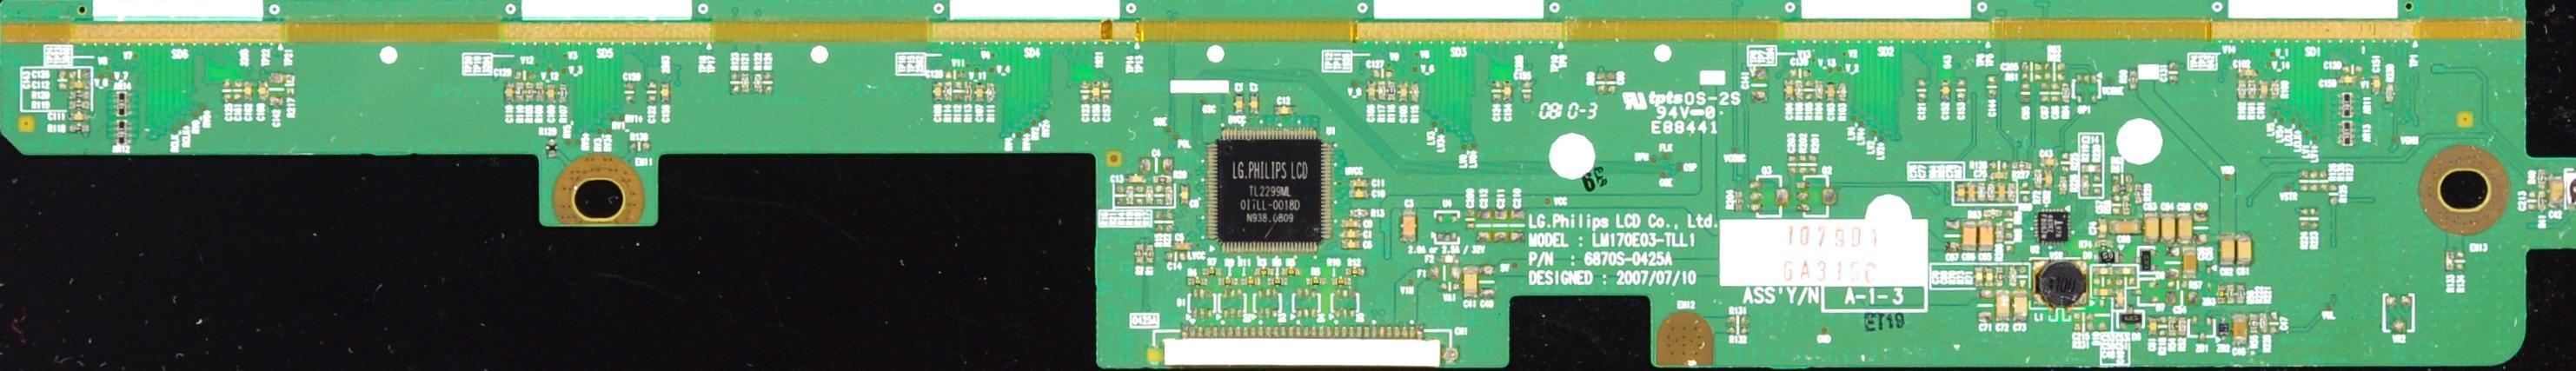Capacitor: (2013, 288, 2028, 321), (2236, 235, 2253, 267), (2549, 175, 2564, 208), (2144, 213, 2160, 243), (2182, 248, 2198, 278), (1464, 266, 1478, 299), (2233, 313, 2247, 347), (2109, 221, 2141, 235), (2219, 235, 2234, 267), (2161, 213, 2176, 243), (2178, 213, 2193, 243), (1963, 222, 1977, 252), (1979, 222, 1994, 252), (1403, 209, 1417, 242), (1996, 289, 2009, 322), (2033, 62, 2055, 72), (2270, 314, 2280, 335), (1957, 80, 1966, 101), (1350, 189, 1370, 198), (1974, 268, 1982, 287), (2169, 63, 2178, 83), (2032, 72, 2055, 81), (2022, 63, 2030, 81), (1988, 76, 1996, 98), (1784, 79, 1793, 100), (258, 81, 267, 102), (1941, 81, 1949, 102), (1092, 82, 1100, 103), (626, 83, 634, 103), (1236, 94, 1244, 116), (1809, 154, 1817, 176), (1181, 184, 1189, 205), (2098, 219, 2107, 239), (1400, 83, 1408, 102), (506, 83, 514, 103), (2022, 83, 2029, 103), (975, 84, 984, 103), (1251, 94, 1258, 114), (1276, 107, 1296, 116), (69, 111, 90, 120), (2040, 157, 2057, 167), (2045, 169, 2054, 189), (1957, 184, 1965, 203), (2528, 191, 2536, 210), (1341, 219, 1361, 227), (1341, 240, 1361, 248), (2094, 268, 2113, 275), (1986, 268, 1995, 288), (514, 71, 534, 79), (70, 80, 90, 89), (2260, 81, 2267, 98), (1367, 80, 1376, 99), (933, 83, 942, 101), (1827, 83, 1835, 100), (2052, 84, 2060, 102), (662, 83, 670, 103), (548, 85, 554, 103), (1127, 176, 1145, 183), (1174, 243, 1192, 251), (2116, 267, 2134, 275), (2057, 63, 2065, 81), (2239, 69, 2257, 77), (1799, 154, 1806, 176), (1349, 180, 1370, 188), (1992, 171, 2008, 179), (1918, 81, 1926, 101), (649, 83, 655, 103), (1789, 155, 1796, 175), (1968, 182, 1975, 202), (1997, 182, 2005, 202), (1341, 229, 1361, 237), (2115, 289, 2123, 308), (2341, 66, 2360, 73), (244, 82, 251, 101), (2042, 84, 2049, 102), (2149, 318, 2155, 336), (2338, 77, 2356, 84), (2373, 76, 2379, 96), (1504, 80, 1510, 101), (2095, 288, 2113, 295)
Connector: (1153, 327, 1456, 367)
IC: (1208, 126, 1332, 254), (2035, 209, 2071, 244)
Resistor: (628, 142, 650, 152), (1595, 72, 1606, 94), (2271, 81, 2280, 100), (1136, 187, 1145, 207), (1734, 191, 1743, 210), (2260, 313, 2268, 334), (547, 137, 556, 156), (1145, 246, 1154, 265), (1116, 184, 1124, 205), (2309, 209, 2318, 230), (1136, 245, 1144, 266), (2009, 265, 2017, 286), (2168, 316, 2176, 338), (1608, 72, 1617, 93), (2238, 80, 2246, 100), (535, 83, 543, 102), (559, 84, 567, 103), (2013, 162, 2032, 170), (2035, 169, 2042, 189), (2300, 171, 2308, 190), (2539, 192, 2546, 212), (2112, 194, 2121, 214), (2300, 209, 2307, 229), (2447, 251, 2454, 271), (2094, 278, 2113, 285), (1189, 278, 1206, 287), (2216, 284, 2225, 304), (1729, 315, 1736, 335), (1740, 315, 1748, 335), (2128, 70, 2137, 89), (2062, 84, 2070, 103), (1978, 182, 1986, 201), (2122, 196, 2130, 215), (2005, 223, 2013, 241), (2227, 285, 2235, 304), (2158, 316, 2167, 335), (2063, 151, 2070, 173), (1152, 176, 1172, 182), (1989, 162, 2007, 169), (2074, 314, 2081, 330), (516, 83, 523, 102), (2538, 169, 2546, 189), (2310, 171, 2317, 190), (2008, 182, 2016, 202), (2022, 184, 2029, 203), (1145, 185, 1152, 206), (2456, 252, 2463, 271), (1255, 268, 1274, 275), (1997, 268, 2005, 287), (2237, 284, 2245, 304), (2086, 312, 2094, 332), (2250, 314, 2258, 334), (2179, 316, 2186, 336), (2248, 80, 2256, 99), (526, 83, 532, 101), (2320, 173, 2327, 190), (1988, 183, 1995, 202), (2329, 185, 2336, 203), (1995, 224, 2002, 243), (1203, 268, 1221, 275), (1283, 269, 1302, 275), (1218, 278, 1237, 284), (1268, 278, 1286, 284), (1307, 278, 1326, 284), (2116, 279, 2134, 285), (1242, 280, 1260, 285), (2061, 177, 2067, 194), (1126, 185, 1132, 205), (1166, 185, 1172, 206), (2095, 242, 2114, 247), (2135, 185, 2141, 203), (1983, 211, 2002, 217)
